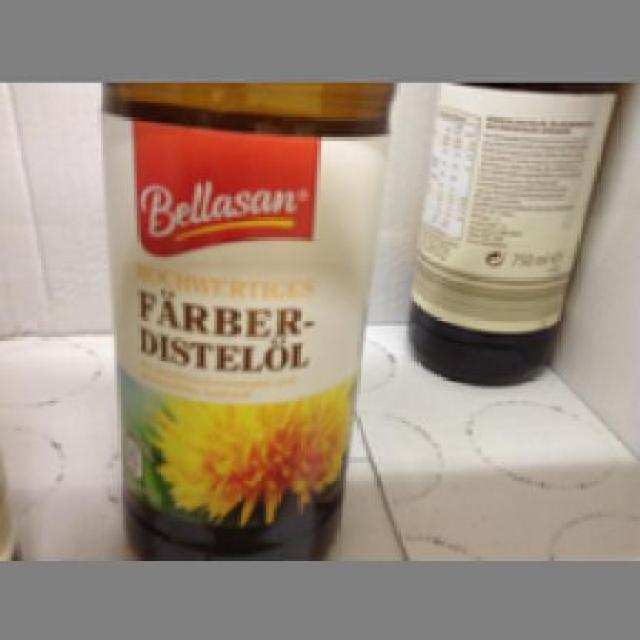Oil: (97, 79, 397, 552)
